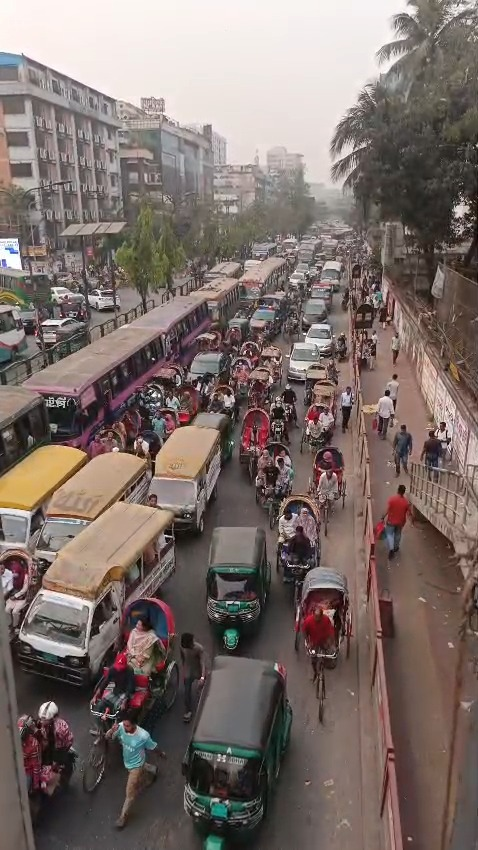Bus: (23, 290, 209, 447)
Leguna: (0, 430, 180, 682)
auto-ricksaw: (295, 564, 356, 729)
cng: (182, 657, 297, 850), (203, 523, 274, 654)
